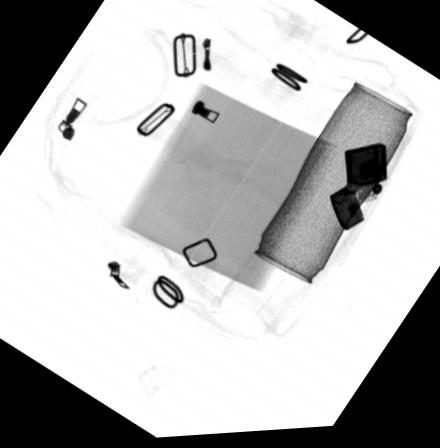Lighter: (327, 147, 387, 235)
